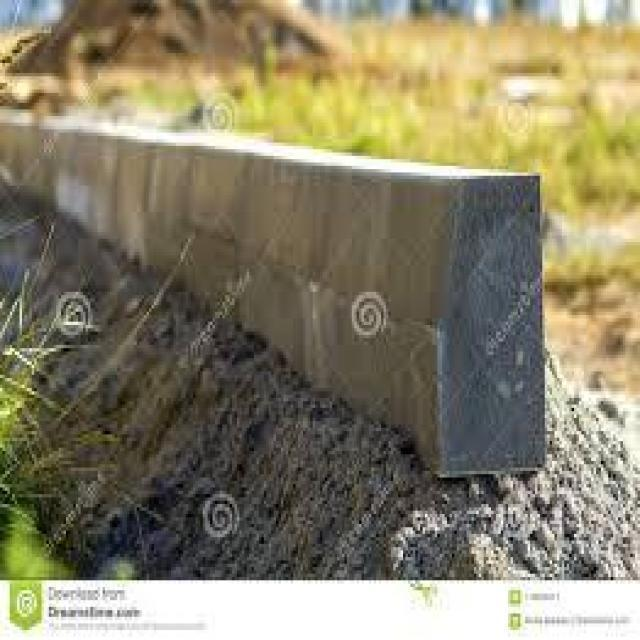curb: (248, 148, 559, 481), (78, 116, 315, 339), (1, 112, 100, 221)
